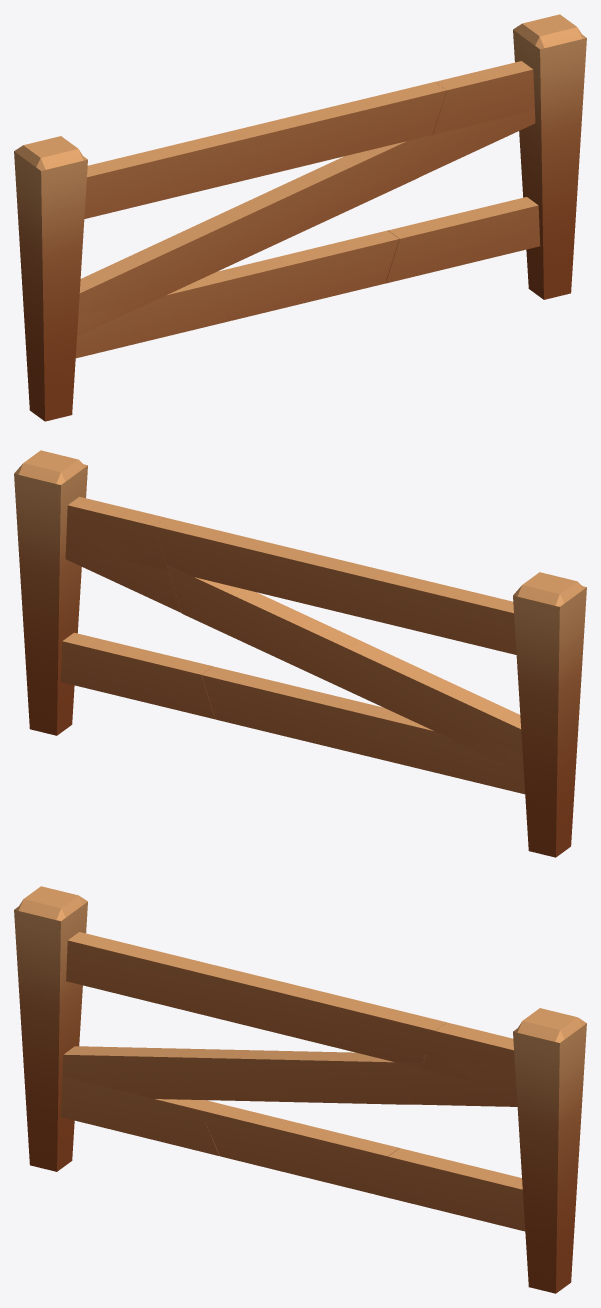
The model's file is PortaoQuebrado.fbx.
3 views of the same model, one above another, from view 1: azimuth 30°, elevation 25°; view 2: azimuth 150°, elevation 25°; view 3: azimuth 330°, elevation 25° (orthographic).
Visible parts, largest first — view 1: part2, part1, Part3; view 2: part2, part1, Part3; view 3: part2, Part3, part1.
Part boxes in pixels (<box>): part2: <box>135,82,446,320</box>; part1: <box>14,136,230,421</box>; Part3: <box>385,14,586,299</box>; part2: <box>154,518,465,756</box>; part1: <box>370,572,586,857</box>; Part3: <box>14,450,215,735</box>; part2: <box>135,948,446,1193</box>; Part3: <box>374,1008,586,1293</box>; part1: <box>14,886,219,1171</box>.
Size of the model in its own units: 513 by 238 by 44.23.
